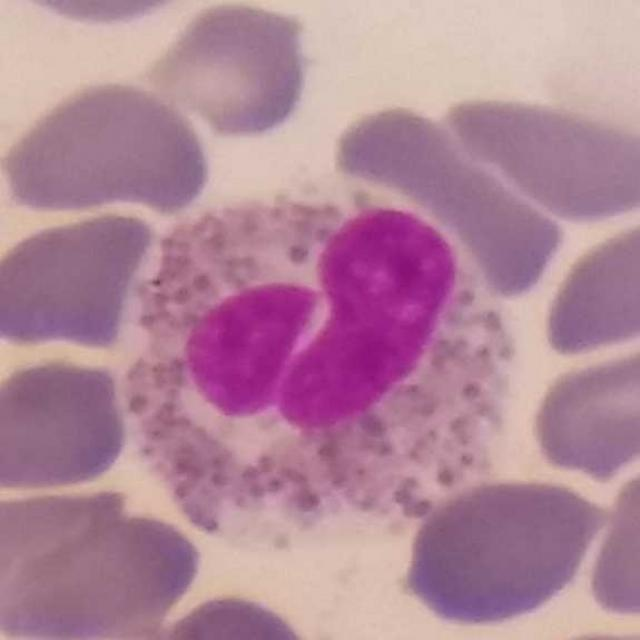eosino: (121, 190, 541, 545)
